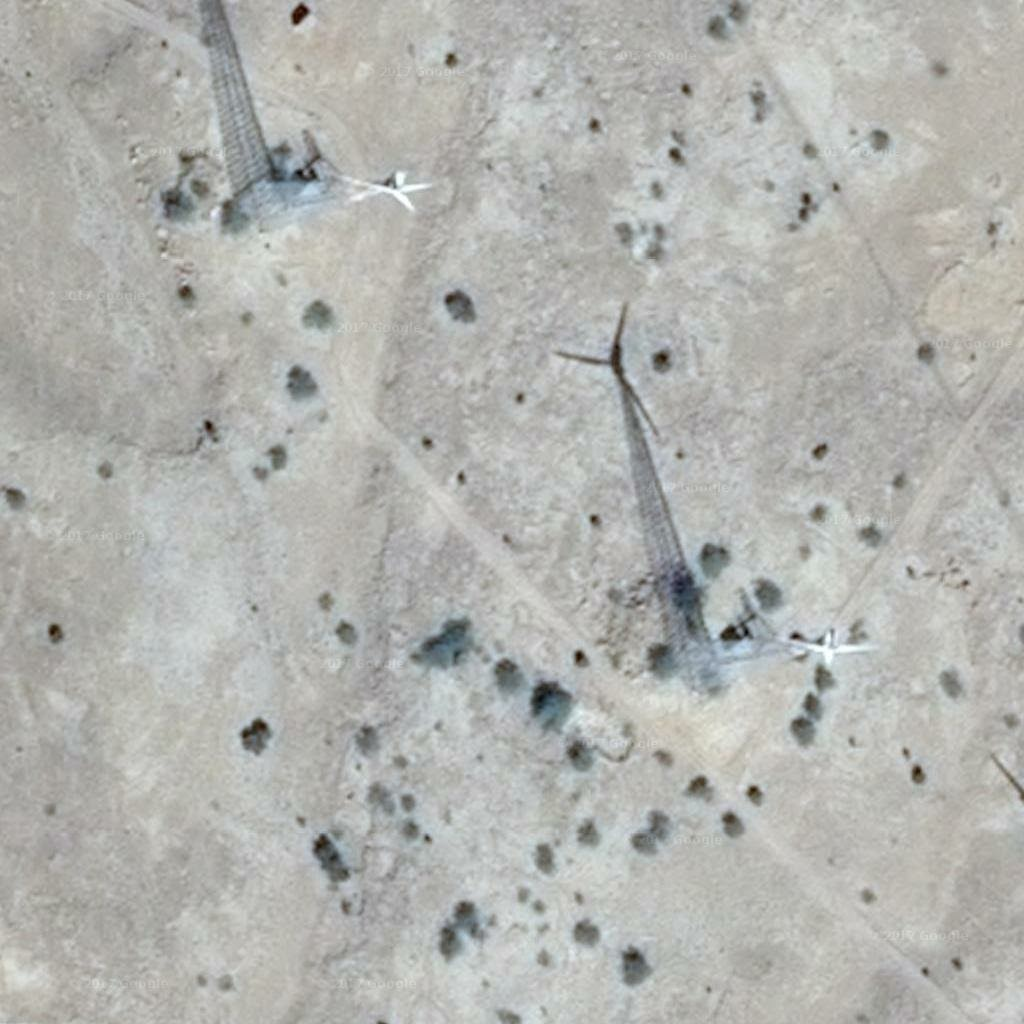Windmill: (549, 320, 703, 599)
